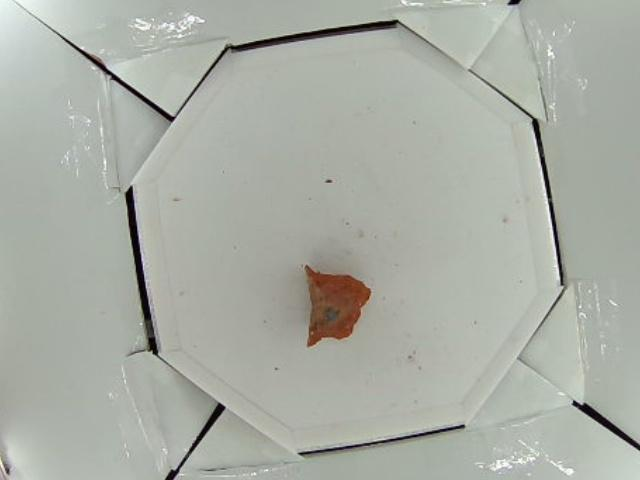Brisk: (303, 262, 371, 347)
